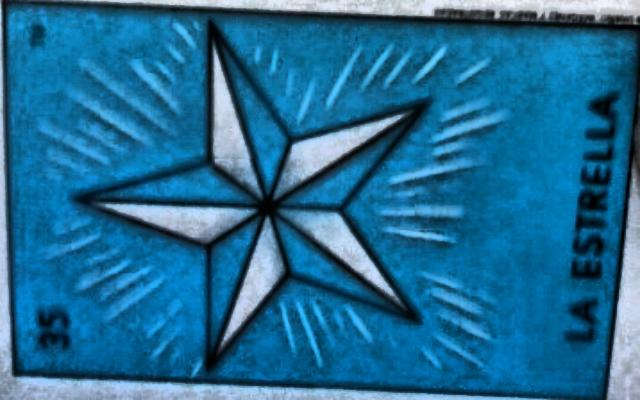La Estrella: (4, 0, 640, 398)
